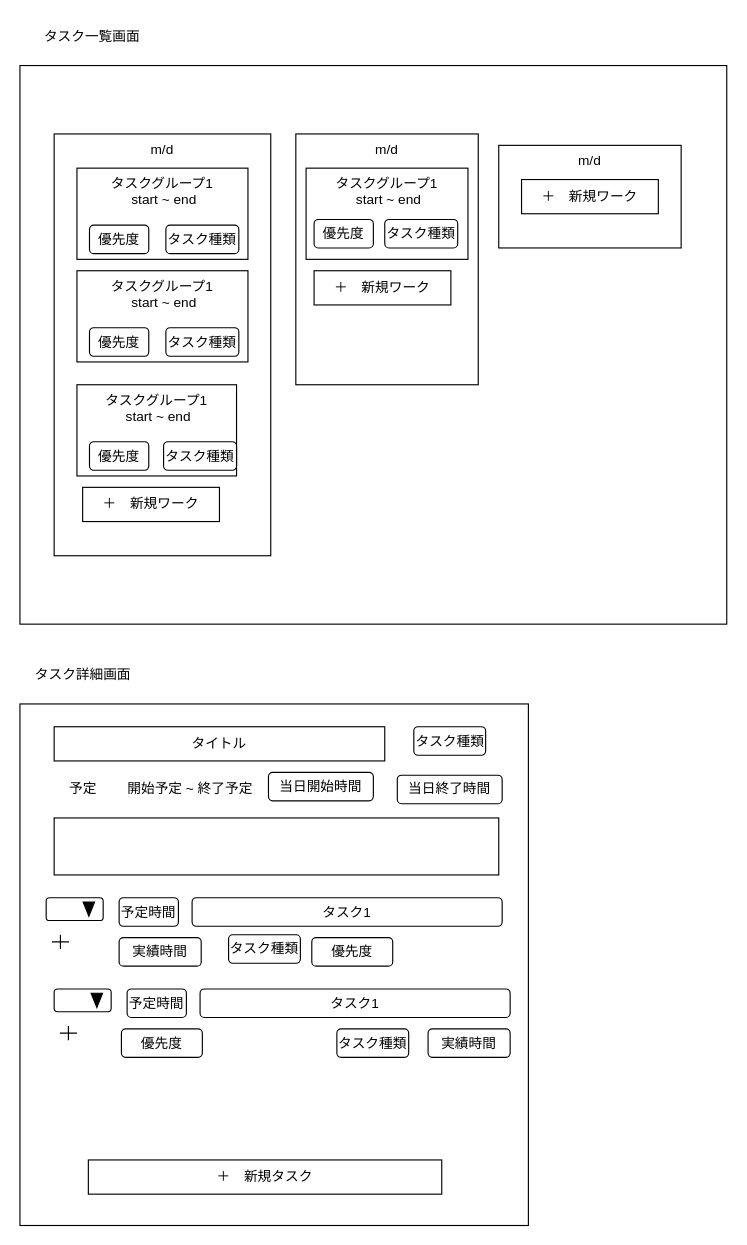
This 747x1245 diagram has some shape labels left out. Here are the shapes that lost their labels. From the top down, the box of each, then its label:
(19, 64, 727, 624): m/d ~ m/d
(53, 817, 499, 875): 説明
